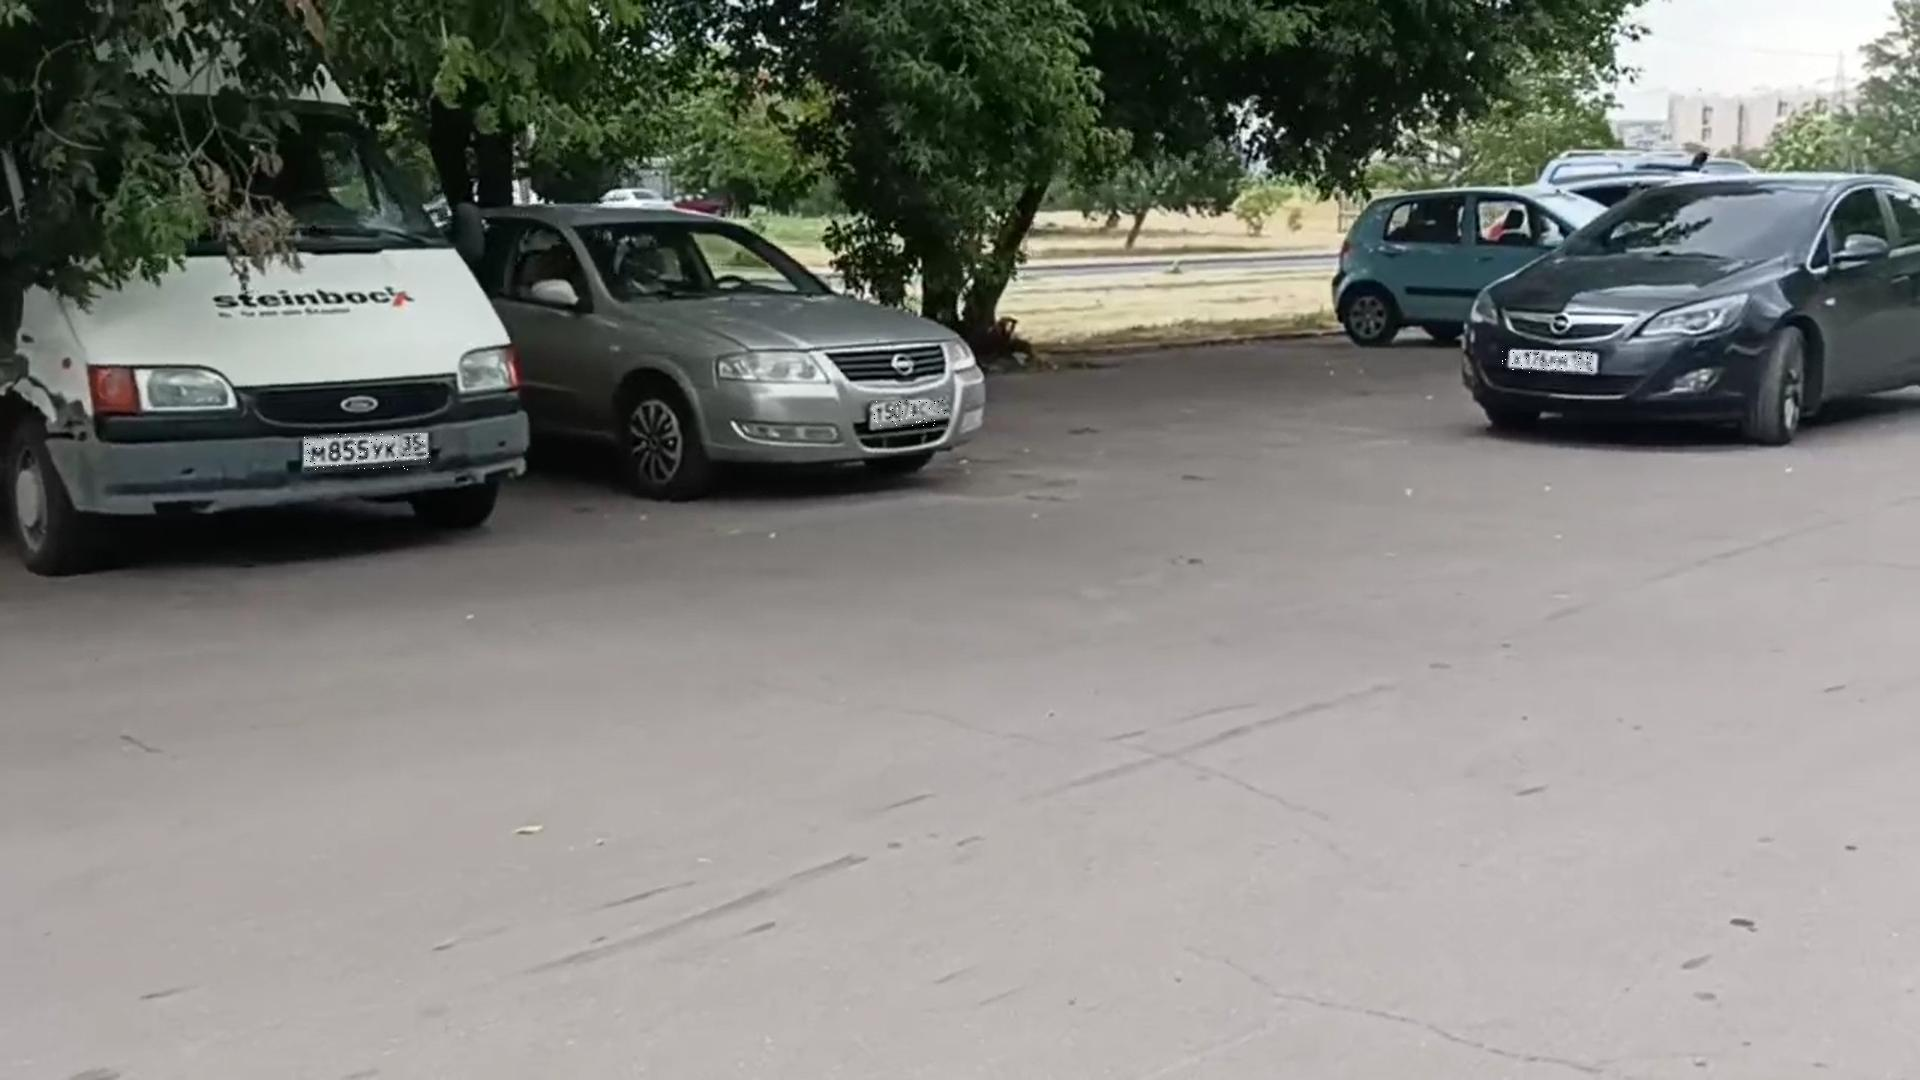plate: (306, 435, 432, 473), (871, 402, 950, 428), (1504, 352, 1594, 375)
